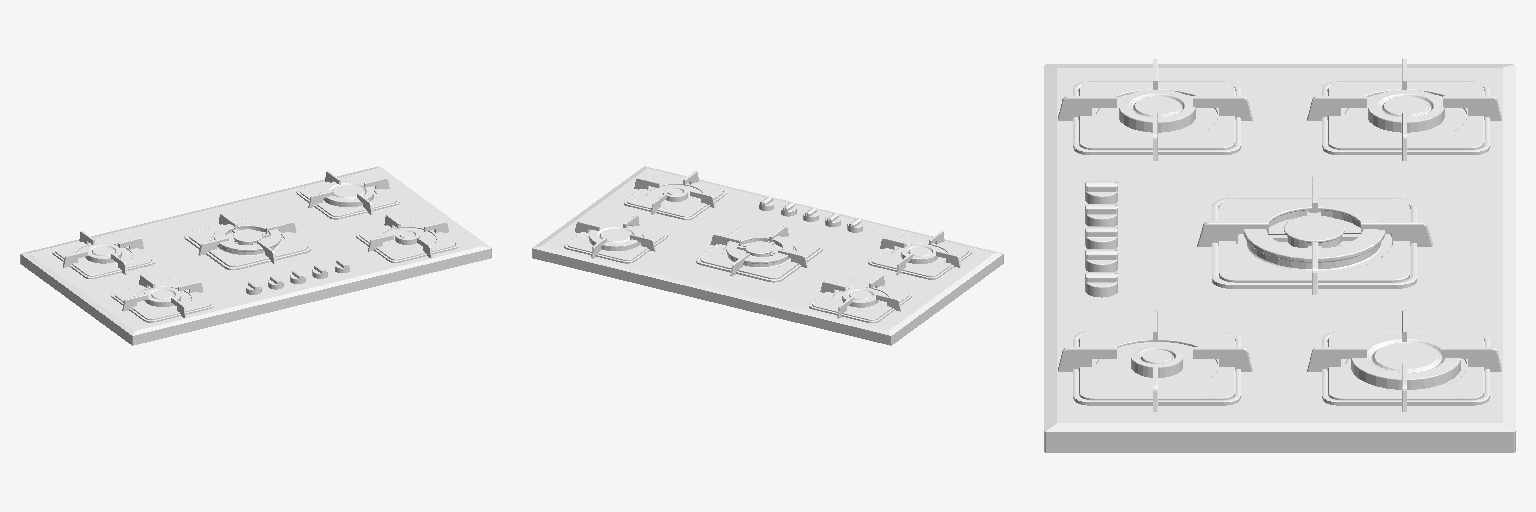
URDF robot description (alborz_top_gas):
<?xml version="1.0"?>
<robot name="alborz_top_gas">
  <material name="checker">
    <texture filename="visuals/image0.png" />
    <color rgba="1 1 1 1" />
  </material>

  <link name="base_link">
    <inertial>
      <origin xyz="0 0 0" rpy="0 0 0" />
      <mass value="5.0" />
      <inertia ixx="0.2" ixy="0" ixz="0" iyy="0.2" iyz="0" izz="0.2" />
    </inertial>
    <visual>
      <origin xyz="0 0 0" rpy="0 0 0" />
      <geometry>
        <mesh filename="visuals/model_0.obj" scale="1 1 1" />
      </geometry>
      <material name="checker" />
    </visual>
    <collision>
      <origin xyz="0 0 -0.014" rpy="0 0 0" />
      <geometry>
        <box size="1.0 0.55 0.03" />
      </geometry>
    </collision>
    <collision>
      <origin xyz="-0.34 -0.141 0.014" rpy="0 0 0" />
      <geometry>
        <box size="0.2 0.2 0.032" />
      </geometry>
    </collision>
    <collision>
      <origin xyz="-0.34 0.142 0.014" rpy="0 0 0" />
      <geometry>
        <box size="0.2 0.2 0.032" />
      </geometry>
    </collision>
    <collision>
      <origin xyz="0.34 -0.141 0.014" rpy="0 0 0" />
      <geometry>
        <box size="0.2 0.2 0.032" />
      </geometry>
    </collision>
    <collision>
      <origin xyz="0.34 0.142 0.014" rpy="0 0 0" />
      <geometry>
        <box size="0.2 0.2 0.032" />
      </geometry>
    </collision>
    <collision>
      <origin xyz="0 0.04 0.014" rpy="0 0 0" />
      <geometry>
        <box size="0.24 0.24 0.032" />
      </geometry>
    </collision>
  </link>

  <link name="knob_rear_right">
    <inertial>
      <origin xyz="0 0 0" rpy="0 0 0" />
      <mass value="0.1" />
      <inertia ixx="0.001" ixy="0" ixz="0" iyy="0.001" iyz="0" izz="0.001" />
    </inertial>
    <visual>
      <origin xyz="-0.06076 0.205 -0.0072" rpy="0 0 0" />
      <geometry>
        <mesh filename="visuals/knob_rear_right_0.obj" scale="1 1 1" />
      </geometry>
      <material name="checker" />
    </visual>
    <collision>
      <origin xyz="0 0 0.0003" rpy="0 0 0" />
      <geometry>
        <cylinder radius="0.0195" length="0.0124" />
      </geometry>
    </collision>
    <collision>
      <origin xyz="0 0 0.0108" rpy="0 0 0" />
      <geometry>
        <box size="0.0148 0.039 0.0092" />
      </geometry>
    </collision>
  </link>

  <link name="knob_front_left">
    <inertial>
      <origin xyz="0 0 0" rpy="0 0 0" />
      <mass value="0.1" />
      <inertia ixx="0.001" ixy="0" ixz="0" iyy="0.001" iyz="0" izz="0.001" />
    </inertial>
    <visual>
      <origin xyz="0.1247 0.205 -0.0072" rpy="0 0 0" />
      <geometry>
        <mesh filename="visuals/knob_front_left_0.obj" scale="1 1 1" />
      </geometry>
      <material name="checker" />
    </visual>
    <collision>
      <origin xyz="0 0 0.0003" rpy="0 0 0" />
      <geometry>
        <cylinder radius="0.0195" length="0.0124" />
      </geometry>
    </collision>
    <collision>
      <origin xyz="0 0 0.0108" rpy="0 0 0" />
      <geometry>
        <box size="0.0148 0.039 0.0092" />
      </geometry>
    </collision>
  </link>

  <link name="knob_front_right">
    <inertial>
      <origin xyz="0 0 0" rpy="0 0 0" />
      <mass value="0.1" />
      <inertia ixx="0.001" ixy="0" ixz="0" iyy="0.001" iyz="0" izz="0.001" />
    </inertial>
    <visual>
      <origin xyz="-0.1226 0.205 -0.0072" rpy="0 0 0" />
      <geometry>
        <mesh filename="visuals/knob_front_right_0.obj" scale="1 1 1" />
      </geometry>
      <material name="checker" />
    </visual>
    <collision>
      <origin xyz="0 0 0.0003" rpy="0 0 0" />
      <geometry>
        <cylinder radius="0.0195" length="0.0124" />
      </geometry>
    </collision>
    <collision>
      <origin xyz="0 0 0.0108" rpy="0 0 0" />
      <geometry>
        <box size="0.0148 0.039 0.0092" />
      </geometry>
    </collision>
  </link>

  <link name="knob_rear_left">
    <inertial>
      <origin xyz="0 0 0" rpy="0 0 0" />
      <mass value="0.1" />
      <inertia ixx="0.001" ixy="0" ixz="0" iyy="0.001" iyz="0" izz="0.001" />
    </inertial>
    <visual>
      <origin xyz="0.06285 0.205 -0.0072" rpy="0 0 0" />
      <geometry>
        <mesh filename="visuals/knob_rear_left_0.obj" scale="1 1 1" />
      </geometry>
      <material name="checker" />
    </visual>
    <collision>
      <origin xyz="0 0 0.0003" rpy="0 0 0" />
      <geometry>
        <cylinder radius="0.0195" length="0.0124" />
      </geometry>
    </collision>
    <collision>
      <origin xyz="0 0 0.0108" rpy="0 0 0" />
      <geometry>
        <box size="0.0148 0.039 0.0092" />
      </geometry>
    </collision>
  </link>

  <link name="knob_center">
    <inertial>
      <origin xyz="0 0 0" rpy="0 0 0" />
      <mass value="0.1" />
      <inertia ixx="0.001" ixy="0" ixz="0" iyy="0.001" iyz="0" izz="0.001" />
    </inertial>
    <visual>
      <origin xyz="0.001 0.205 -0.0072" rpy="0 0 0" />
      <geometry>
        <mesh filename="visuals/knob_center_0.obj" scale="1 1 1" />
      </geometry>
      <material name="checker" />
    </visual>
    <collision>
      <origin xyz="0 0 0.0003" rpy="0 0 0" />
      <geometry>
        <cylinder radius="0.0195" length="0.0124" />
      </geometry>
    </collision>
    <collision>
      <origin xyz="0 0 0.0108" rpy="0 0 0" />
      <geometry>
        <box size="0.0148 0.039 0.0092" />
      </geometry>
    </collision>
  </link>

  <joint name="knob_rear_right_joint" type="revolute">
    <parent link="base_link" />
    <child link="knob_rear_right" />
    <origin xyz="0.06076 -0.205 0.0072" rpy="0 0 0" />
    <axis xyz="0 0 1" />
    <limit lower="-3.1416" upper="3.1416" effort="1" velocity="0.1" />
    <dynamics damping="0.01" />
  </joint>

  <joint name="knob_front_left_joint" type="revolute">
    <parent link="base_link" />
    <child link="knob_front_left" />
    <origin xyz="-0.1247 -0.205 0.0072" rpy="0 0 0" />
    <axis xyz="0 0 1" />
    <limit lower="-3.1416" upper="3.1416" effort="1" velocity="0.1" />
    <dynamics damping="0.01" />
  </joint>

  <joint name="knob_front_right_joint" type="revolute">
    <parent link="base_link" />
    <child link="knob_front_right" />
    <origin xyz="0.1226 -0.205 0.0072" rpy="0 0 0" />
    <axis xyz="0 0 1" />
    <limit lower="-3.1416" upper="3.1416" effort="1" velocity="0.1" />
    <dynamics damping="0.01" />
  </joint>

  <joint name="knob_rear_left_joint" type="revolute">
    <parent link="base_link" />
    <child link="knob_rear_left" />
    <origin xyz="-0.06285 -0.205 0.0072" rpy="0 0 0" />
    <axis xyz="0 0 1" />
    <limit lower="-3.1416" upper="3.1416" effort="1" velocity="0.1" />
    <dynamics damping="0.01" />
  </joint>

  <joint name="knob_center_joint" type="revolute">
    <parent link="base_link" />
    <child link="knob_center" />
    <origin xyz="-0.001 -0.205 0.0072" rpy="0 0 0" />
    <axis xyz="0 0 1" />
    <limit lower="-3.1416" upper="3.1416" effort="1" velocity="0.1" />
    <dynamics damping="0.01" />
  </joint>
</robot>

--- What the picture shows (computed from the rendered views, not written in the file) ---
The picture shows the robot from 3 angles, left to right: view 1: azimuth 30°, elevation 25°; view 2: azimuth 150°, elevation 25°; view 3: azimuth 270°, elevation 25°; orthographic projection.
Robot: alborz_top_gas — 6 links, 5 joints (5 revolute); root link base_link; default pose: all joints at 0.
Visible links, largest first — view 1: base_link; view 2: base_link; view 3: base_link, knob_front_right, knob_rear_right, knob_front_left, knob_center, knob_rear_left.
Link boxes in pixels (<box>): base_link: <box>20,166,491,345</box>; base_link: <box>532,166,1003,345</box>; base_link: <box>1044,59,1515,452</box>; knob_front_right: <box>1085,272,1117,297</box>; knob_rear_right: <box>1085,249,1117,271</box>; knob_front_left: <box>1085,181,1117,203</box>; knob_center: <box>1085,226,1117,248</box>; knob_rear_left: <box>1085,204,1117,225</box>.
Bounding box of the posed robot: 1 × 0.5416 × 0.0592 m (x, y, z).
Meshes: 6 distinct files referenced, 6 mesh visuals loaded (6 OBJ).
